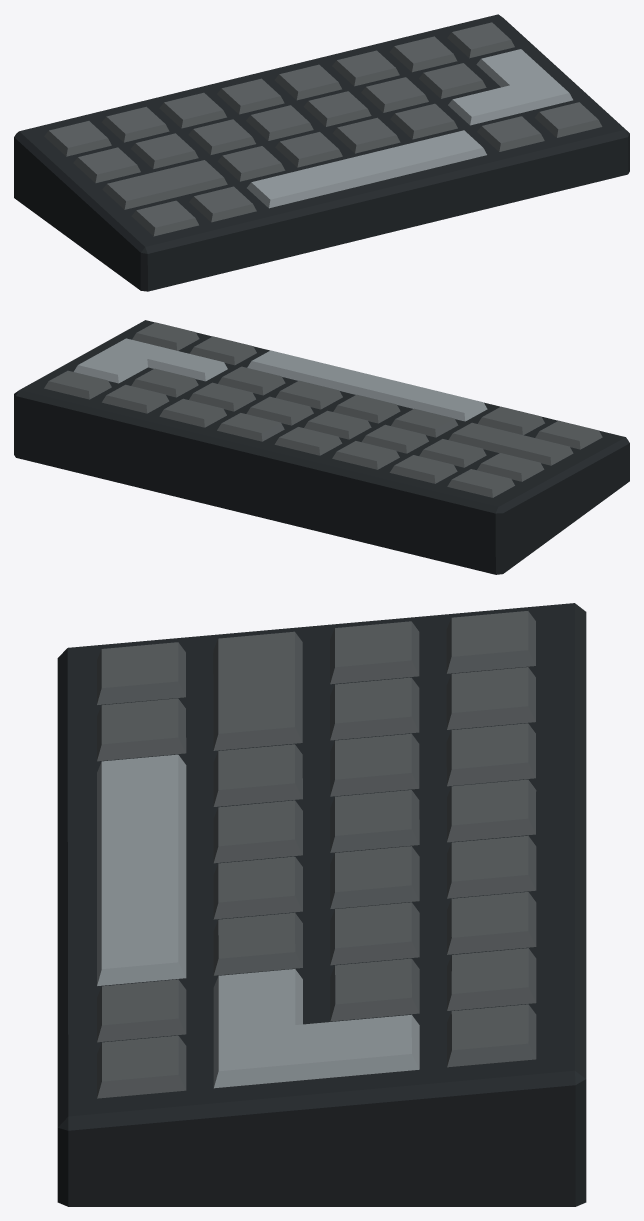
Rendered from Keyboard_01.obj.
3 renders of one model, top to bottom at view 1: azimuth 30°, elevation 25°; view 2: azimuth 150°, elevation 25°; view 3: azimuth 270°, elevation 25°, orthographic. The views are drawn at different scales.
Parts seen in each view (by area): view 1: Keyboard_01; view 2: Keyboard_01; view 3: Keyboard_01.
Boxes of the visible parts, left/top/right/bottom form: Keyboard_01: left=14, top=14, right=629, bottom=291; Keyboard_01: left=14, top=320, right=629, bottom=574; Keyboard_01: left=57, top=603, right=586, bottom=1206.
Size of the model in its own units: 0.5058 by 0.0697 by 0.2366.
Materials: 1 (1 with a texture image).
